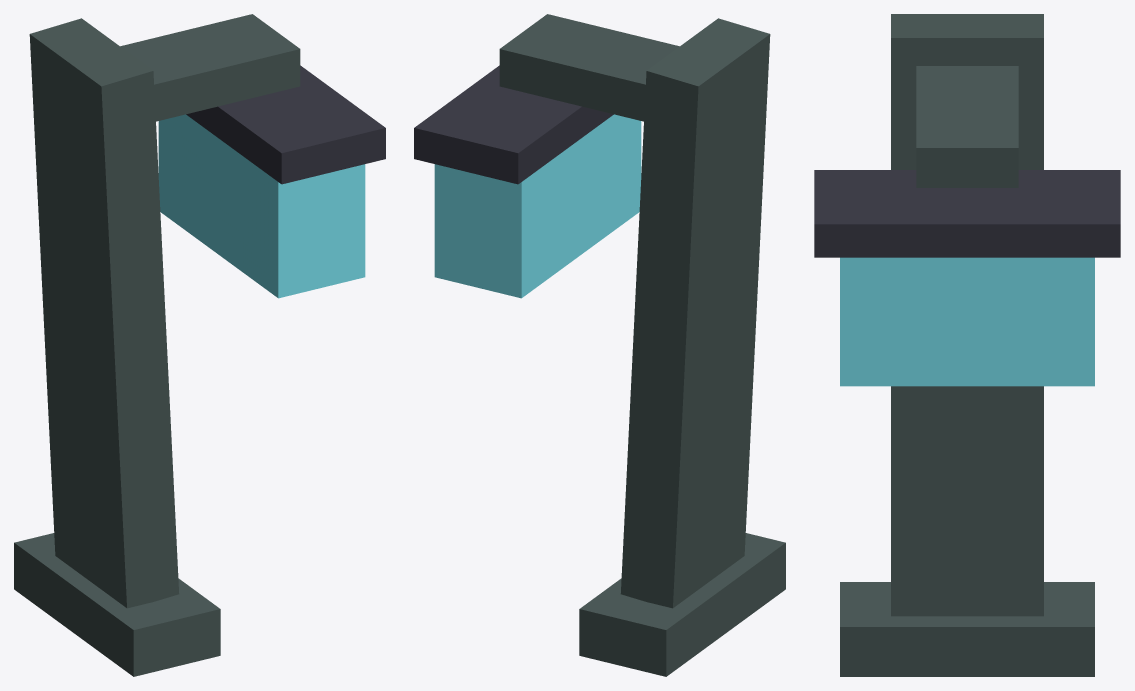
Rendered from env_r14_ghost_lantern.glb.
3 views of the same model, side by side, from view 1: azimuth 30°, elevation 25°; view 2: azimuth 150°, elevation 25°; view 3: azimuth 270°, elevation 25° (orthographic). The views are drawn at different scales.
Visible parts, largest first — view 1: env_r14_ghost_lantern; view 2: env_r14_ghost_lantern; view 3: env_r14_ghost_lantern.
Boxes of the visible parts, box(x1,y1,x2,y2) form: env_r14_ghost_lantern: box(14, 14, 385, 676); env_r14_ghost_lantern: box(414, 14, 785, 676); env_r14_ghost_lantern: box(814, 14, 1120, 676).
Size of the model in its own units: 0.9 by 2 by 0.9.
1 material, 1 textured.
